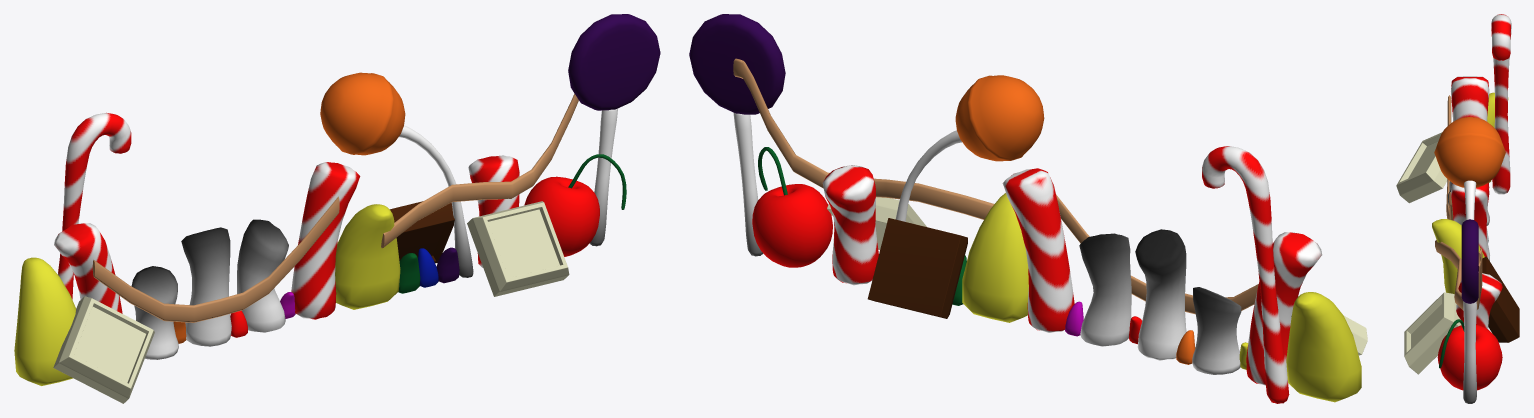
Rendered from fence.fbx.
3 renders of one model, left to right at view 1: azimuth 30°, elevation 25°; view 2: azimuth 150°, elevation 25°; view 3: azimuth 270°, elevation 25°, orthographic. The views are drawn at different scales.
Parts seen in each view (by area): view 1: pSphere4; view 2: pSphere4; view 3: pSphere4.
Boxes of the visible parts, bbox=[...] form: pSphere4: bbox=[14, 14, 660, 403]; pSphere4: bbox=[689, 14, 1367, 403]; pSphere4: bbox=[1396, 14, 1519, 403].
Bounding box in the file's own units: 9.17 × 3.29 × 1.84.
